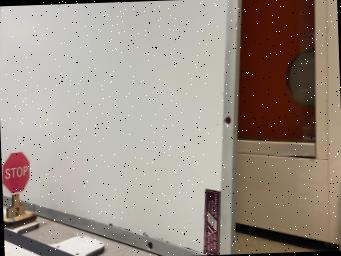stop: (2, 151, 36, 229), (2, 151, 36, 229), (2, 151, 36, 229), (2, 151, 36, 229), (2, 151, 36, 229), (2, 151, 36, 229)
street: (3, 228, 78, 256), (3, 228, 78, 256), (3, 228, 78, 256), (3, 228, 78, 256), (3, 228, 78, 256), (3, 228, 78, 256)
